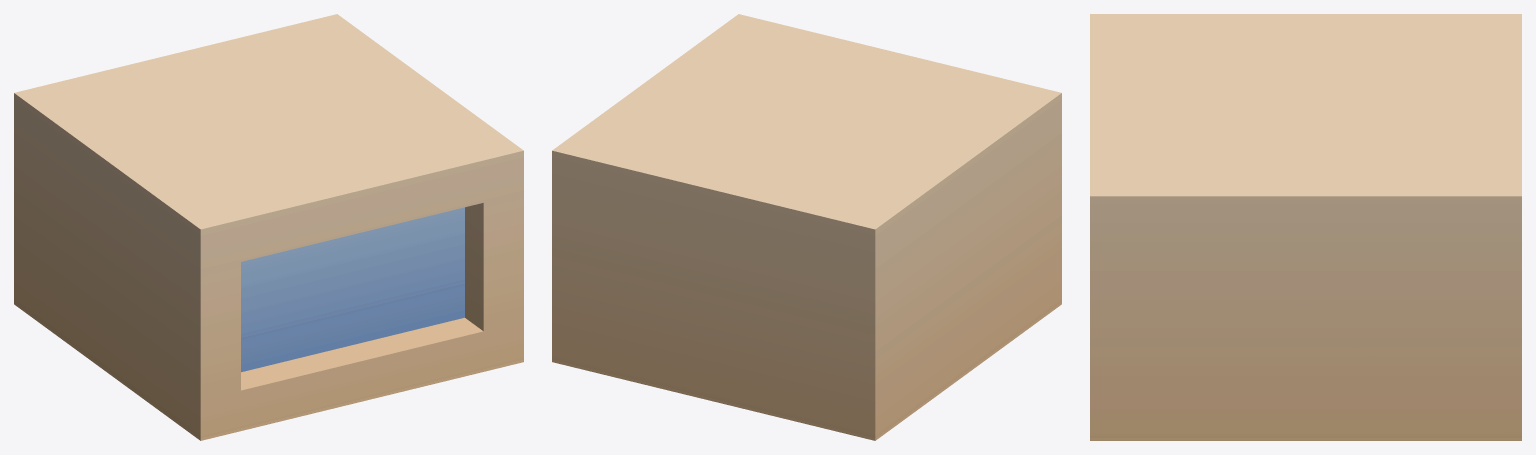
The model's file is building-window-wide.glb.
The picture shows the model from 3 angles, left to right: view 1: azimuth 30°, elevation 25°; view 2: azimuth 150°, elevation 25°; view 3: azimuth 270°, elevation 25°; orthographic projection. The views are drawn at different scales.
Parts seen in each view (by area): view 1: building-window-wide; view 2: building-window-wide; view 3: building-window-wide.
Part boxes in pixels (left/top/right/bottom): building-window-wide: left=14, top=14, right=523, bottom=440; building-window-wide: left=552, top=14, right=1061, bottom=440; building-window-wide: left=1090, top=14, right=1521, bottom=440.
Bounding box in the file's own units: 1 × 0.625 × 1.
Materials: 1 (1 with a texture image).
